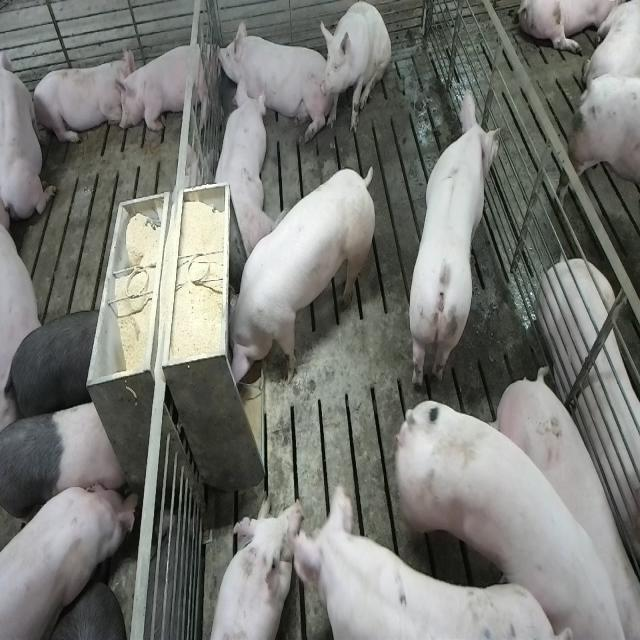Feeding: (219, 165, 371, 392)
Lateral_lying: (538, 257, 640, 627)
Sitting: (319, 2, 392, 136)
Standing: (387, 388, 630, 638), (407, 81, 502, 386), (2, 474, 140, 640), (2, 398, 130, 550), (3, 304, 104, 428)
Sternal_lying: (205, 494, 304, 640), (216, 13, 326, 137), (210, 82, 270, 262), (2, 36, 56, 225), (116, 36, 215, 138), (31, 52, 130, 150)
